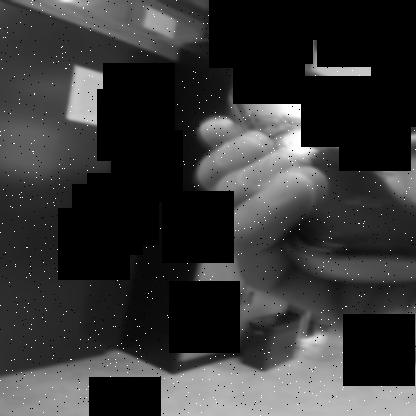Porte: (1, 0, 164, 379)
